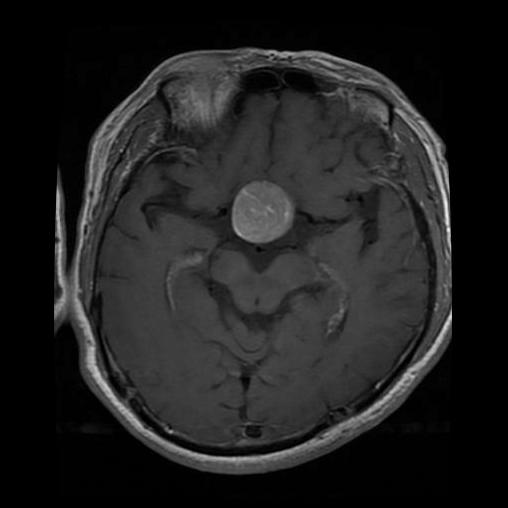Tumour-Pituitary: (229, 181, 292, 253)
